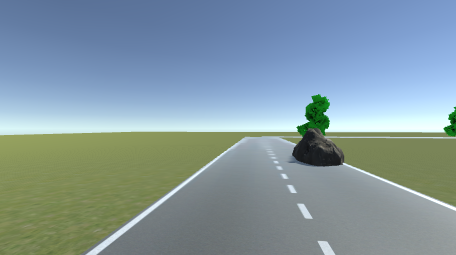rock: (291, 130, 348, 167)
tree: (298, 93, 331, 136), (443, 105, 455, 137)
